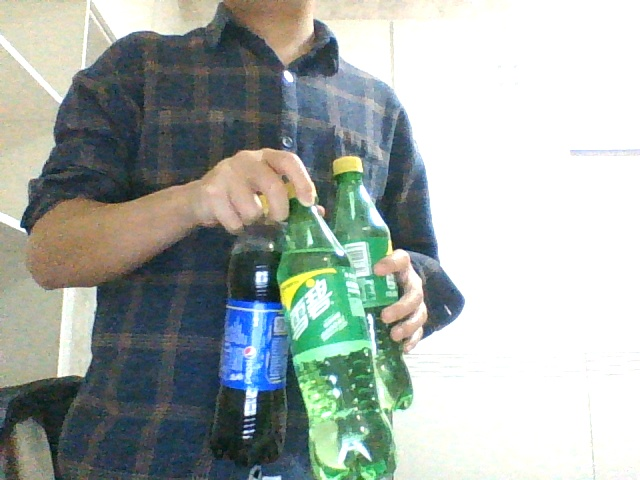Cola: (209, 194, 289, 468)
Sprite: (275, 183, 398, 479), (330, 154, 414, 413)
